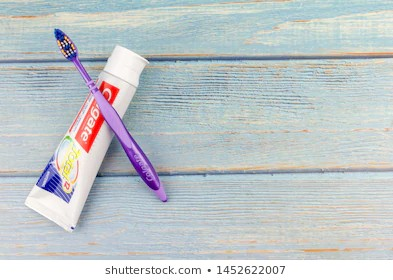colgate-total-150gm: (18, 47, 153, 233)
toothbrush: (48, 24, 99, 97)
